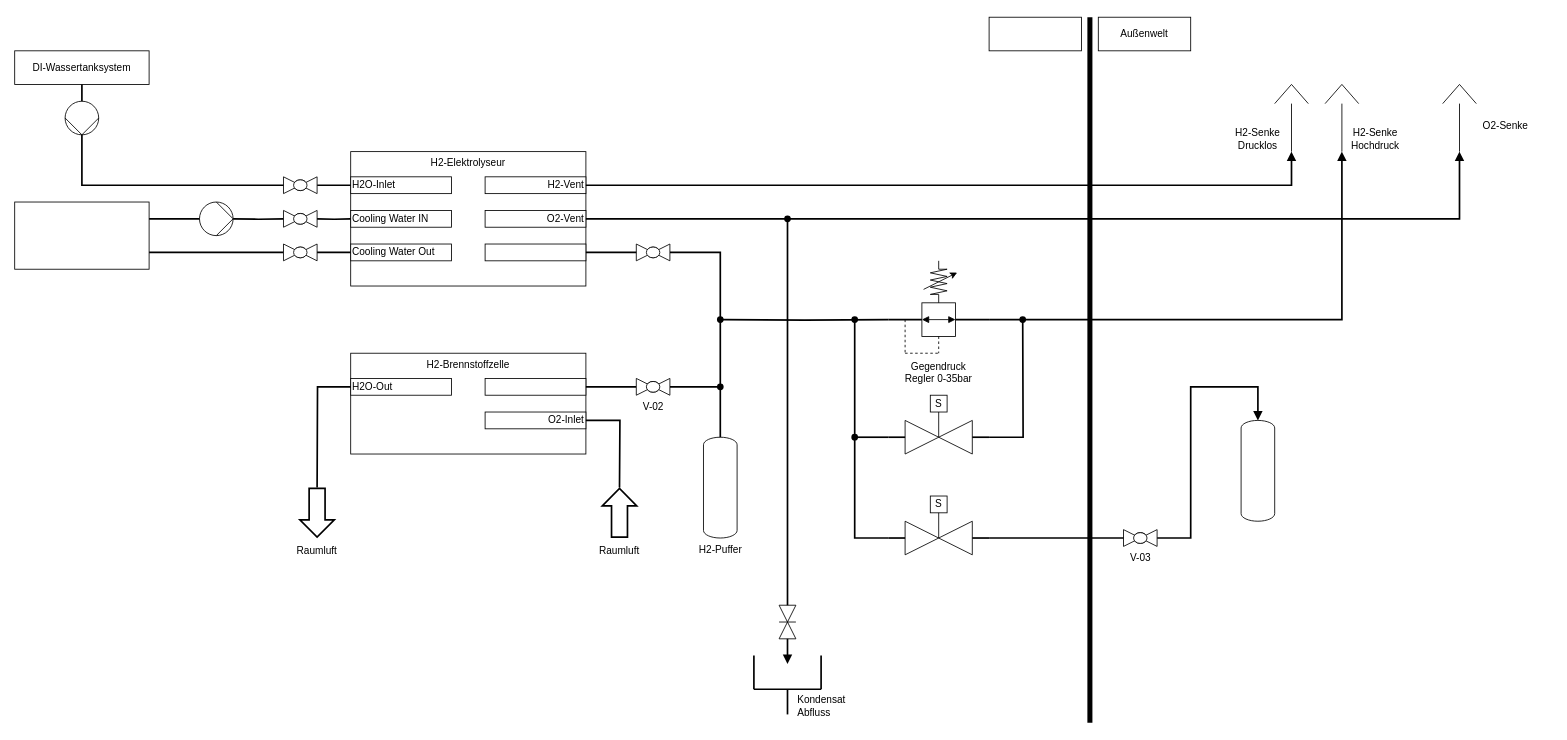
This 1567x740 diagram has some shape labels left out. Here are the shapes that lost their labels. From the top down, the centre of each, then its label:
point (1035, 33): Laborkabine
point (81, 235): Aktive Wasserkühlung
point (535, 252): H2-Outlet
point (652, 252): V-01
point (535, 386): H2-Inlet
point (955, 437): Magnetventil selbstöffnend
point (1257, 470): H2-Außenlager
point (955, 537): Magnetventil selbstschließend
